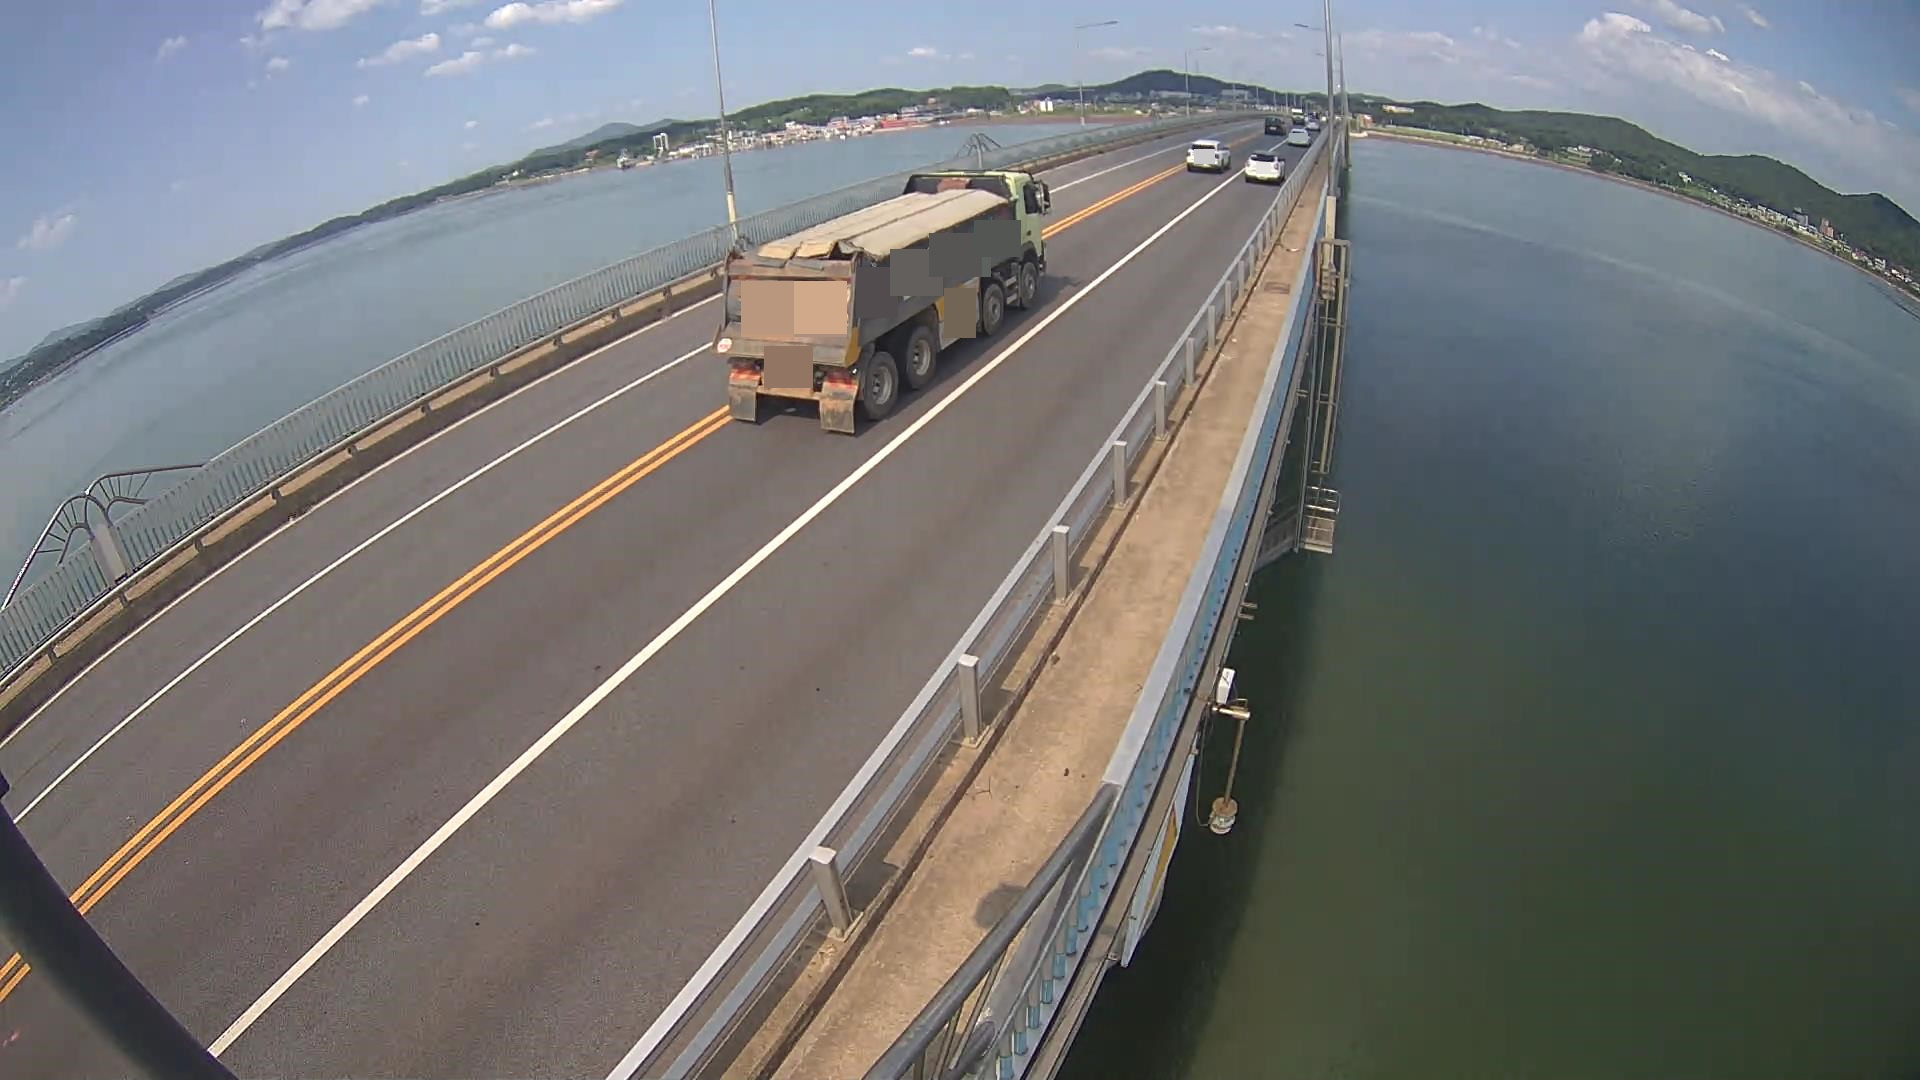정상차량: (711, 170, 1050, 433)
